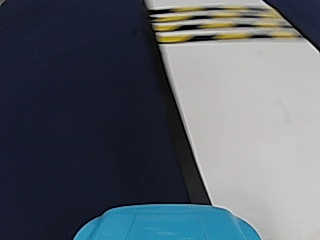bump: (158, 5, 283, 43)
